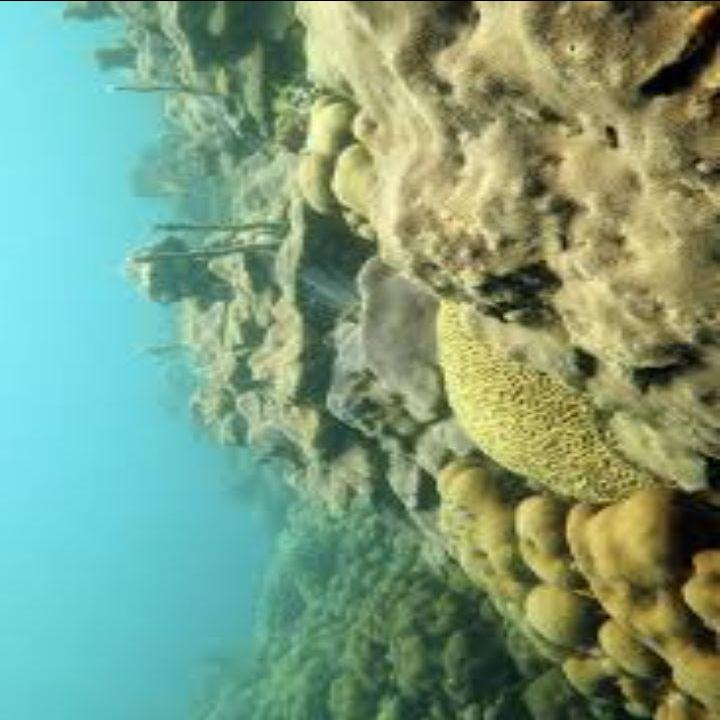Healthy Coral: (222, 12, 717, 700)
